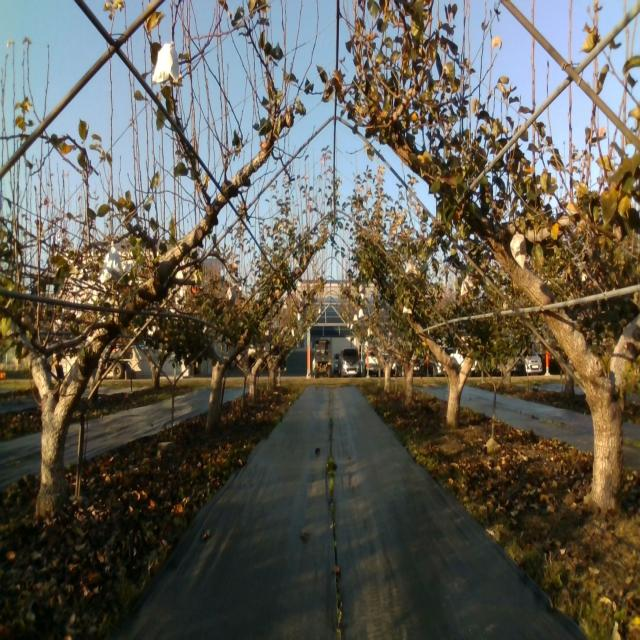pearbags: (152, 41, 180, 84), (100, 240, 123, 284), (509, 230, 526, 269), (460, 273, 476, 297), (406, 257, 418, 276), (225, 286, 237, 304)
